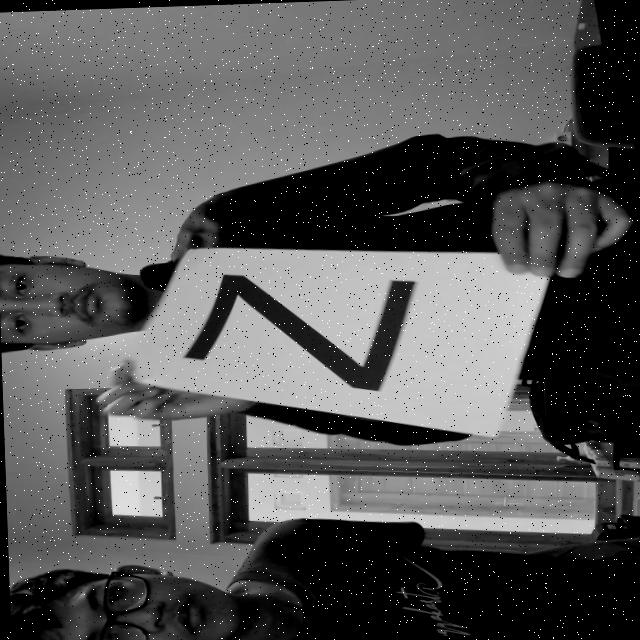z: (157, 232, 480, 402)
